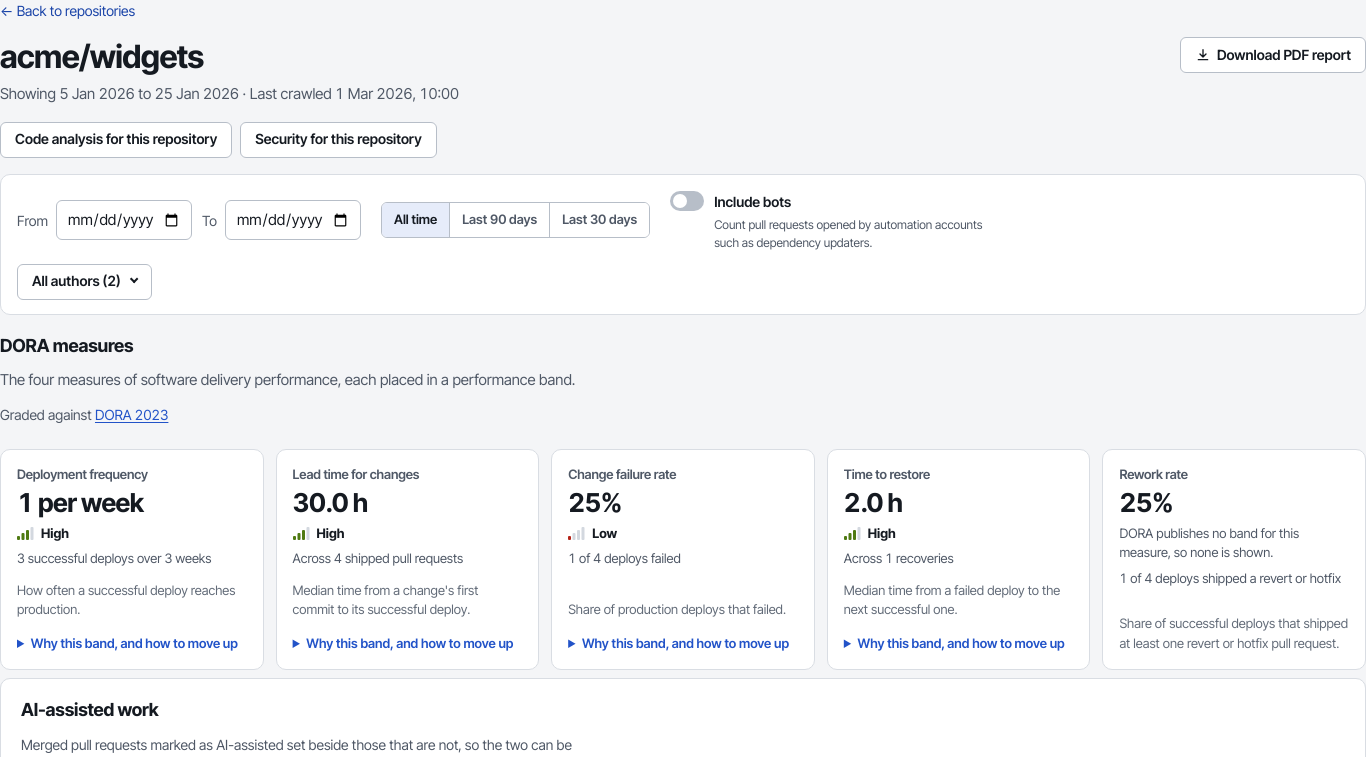
Test: RepoPage › leaves unticked authors out of the whole report, and offers everyone or no one
The width and height of the screenshot is (1366, 757).
Click the heading "All authors (2)" at (84, 282), box x1=17 y1=264 x2=152 y2=300
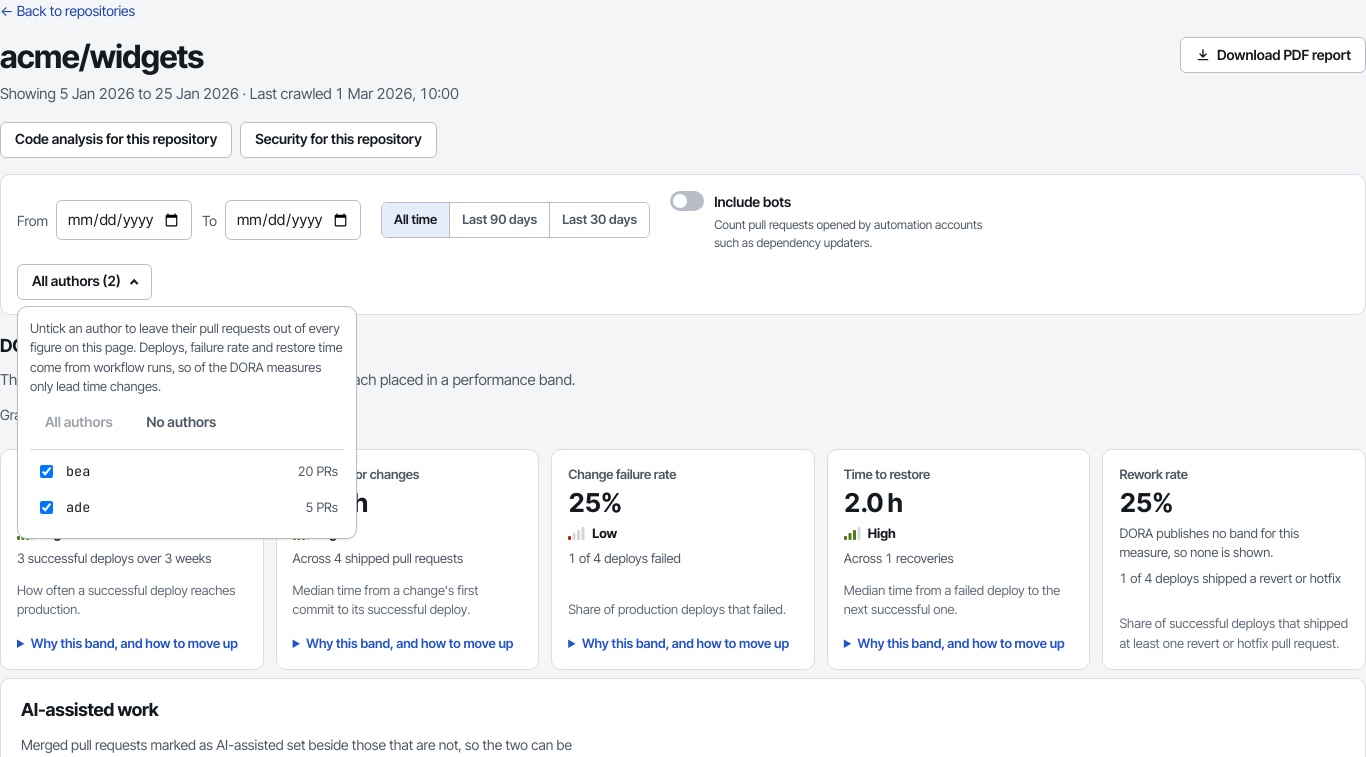
Click the checkbox labelled "bea 20 PRs" at (46, 472), box x1=40 y1=465 x2=53 y2=478
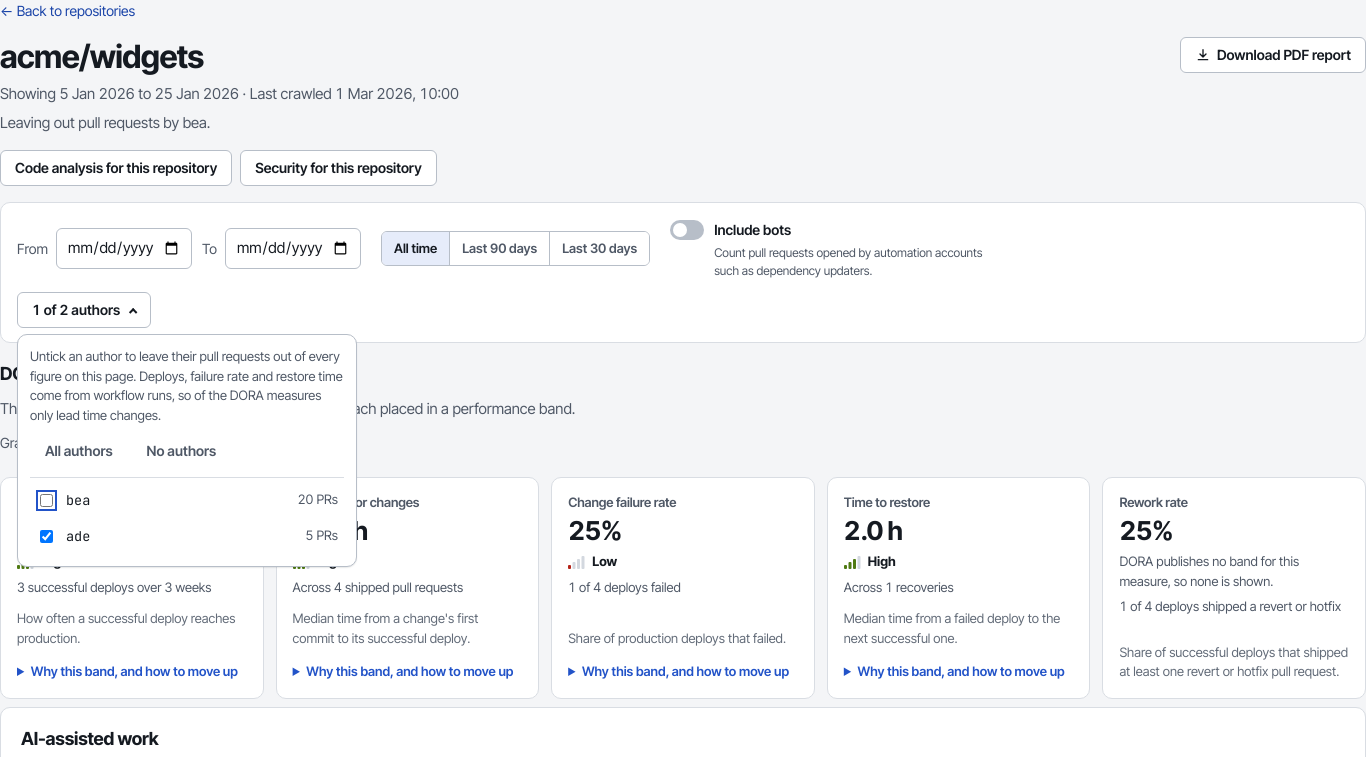
expect the text "bea" is shown: met, box x1=66 y1=491 x2=90 y2=509
Click the button "No authors" at (181, 451), box x1=132 y1=433 x2=231 y2=469
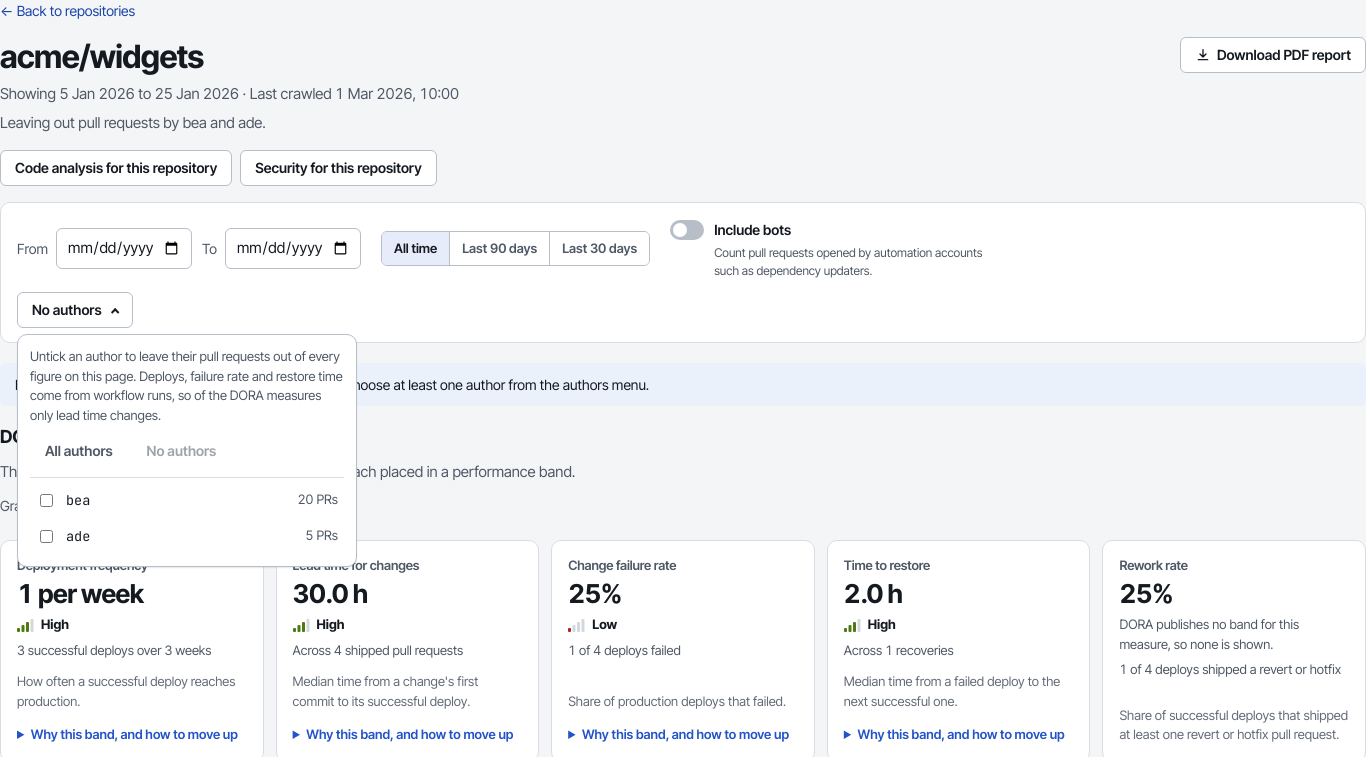
expect the text "Every author is left out, so there is nothing to measure. Choose at least one author from the authors menu." is shown: met, box x1=15 y1=376 x2=649 y2=393
expect the button "No authors" is disabled: met, box x1=132 y1=433 x2=231 y2=469
Click the button "All authors" at (79, 451), box x1=30 y1=433 x2=128 y2=469
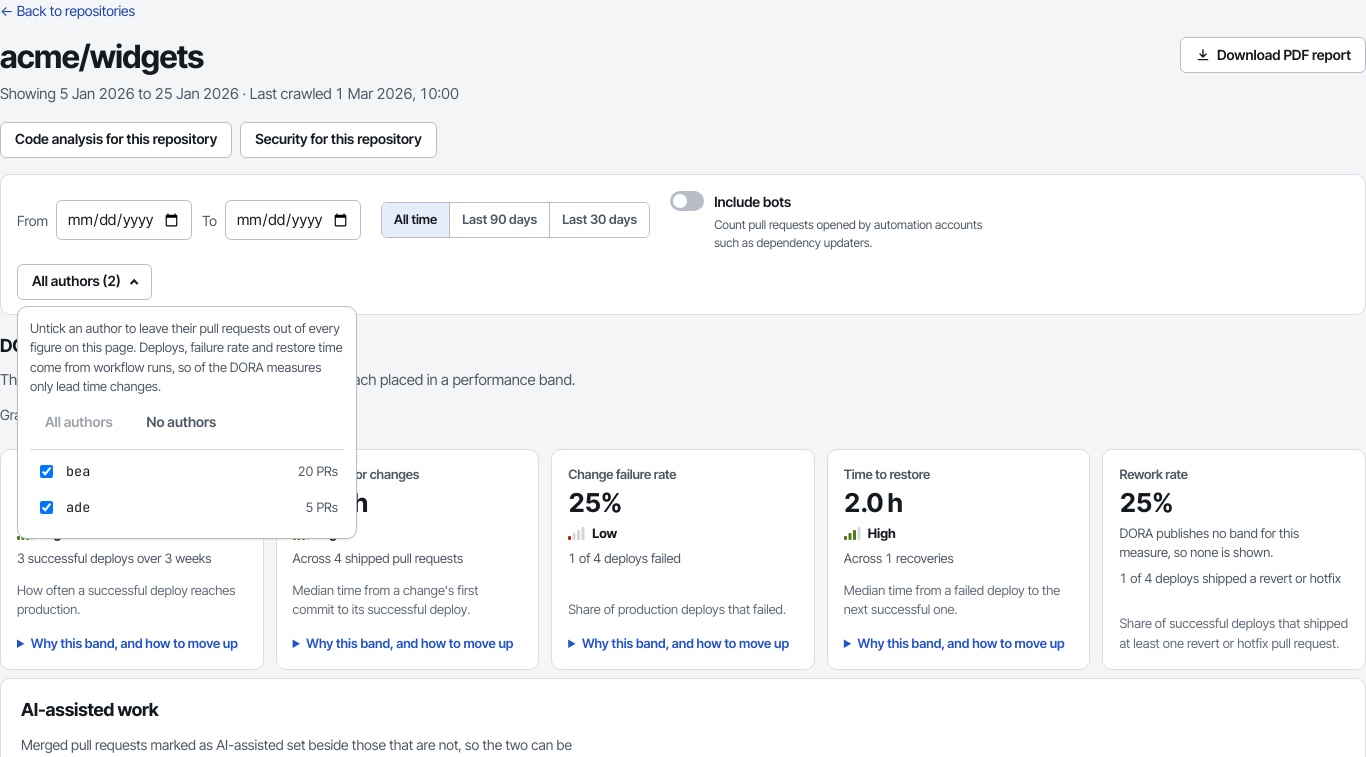
expect the text "Every author is left out, so there is nothing to measure. Choose at least one author from the authors menu." is gone: met
